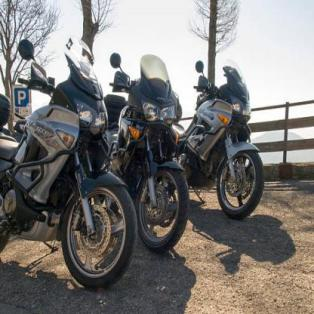Motocicleta: (0, 33, 139, 287), (104, 44, 192, 255), (188, 58, 269, 220)
